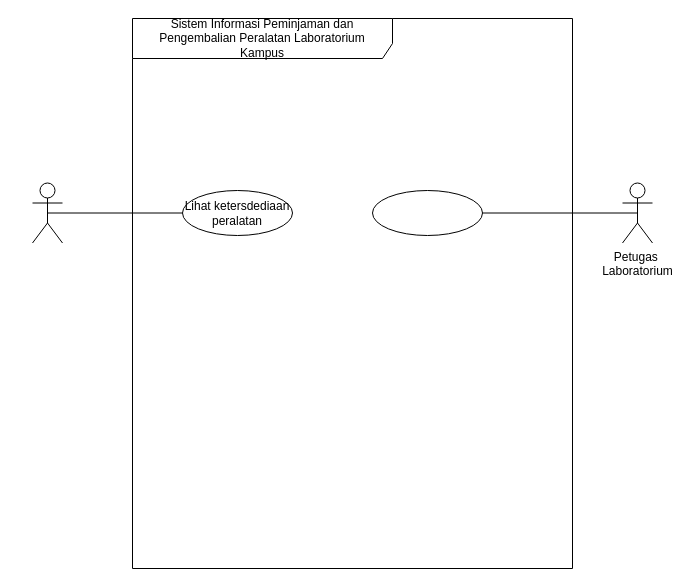
Some shapes in this 690 by 586 pixel diagram are drawn without their labels. The centre of each missing label's shape, as x and y in pixels:
"Kelola data peralatan" goes at pixel 427 213.
"Mahasiswa" goes at pixel 47 212.
